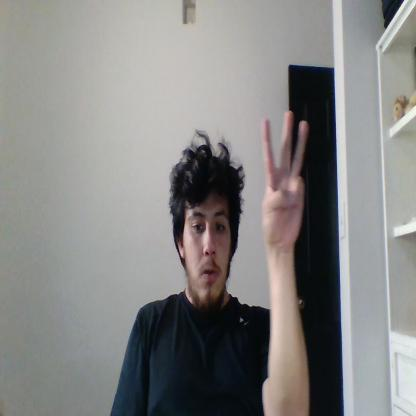W: (263, 111, 308, 248)
